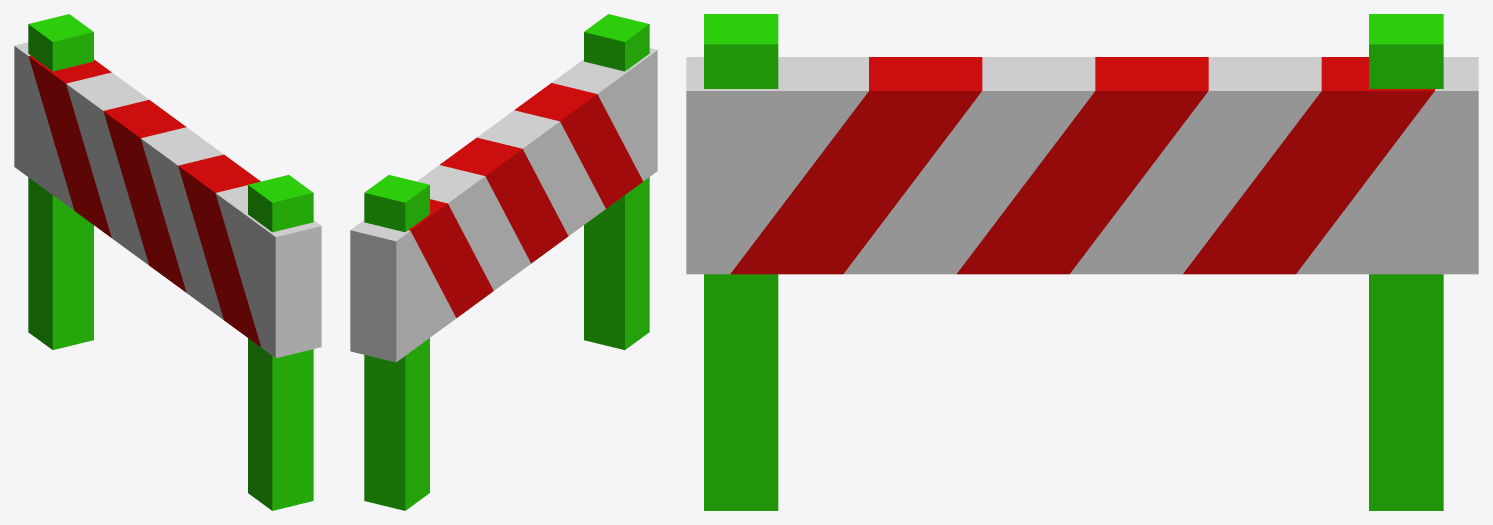
Rendered from WarningSign.fbx.
The picture shows the model from 3 angles, left to right: view 1: azimuth 30°, elevation 25°; view 2: azimuth 150°, elevation 25°; view 3: azimuth 270°, elevation 25°; orthographic projection. The views are drawn at different scales.
Visible parts, largest first — view 1: Cube; view 2: Cube; view 3: Cube.
Part boxes in pixels (x1,y1,x2,y2): Cube: (14, 14, 321, 510); Cube: (350, 14, 657, 510); Cube: (686, 14, 1478, 510).
Size of the model in its own units: 20.29 by 130 by 200.
